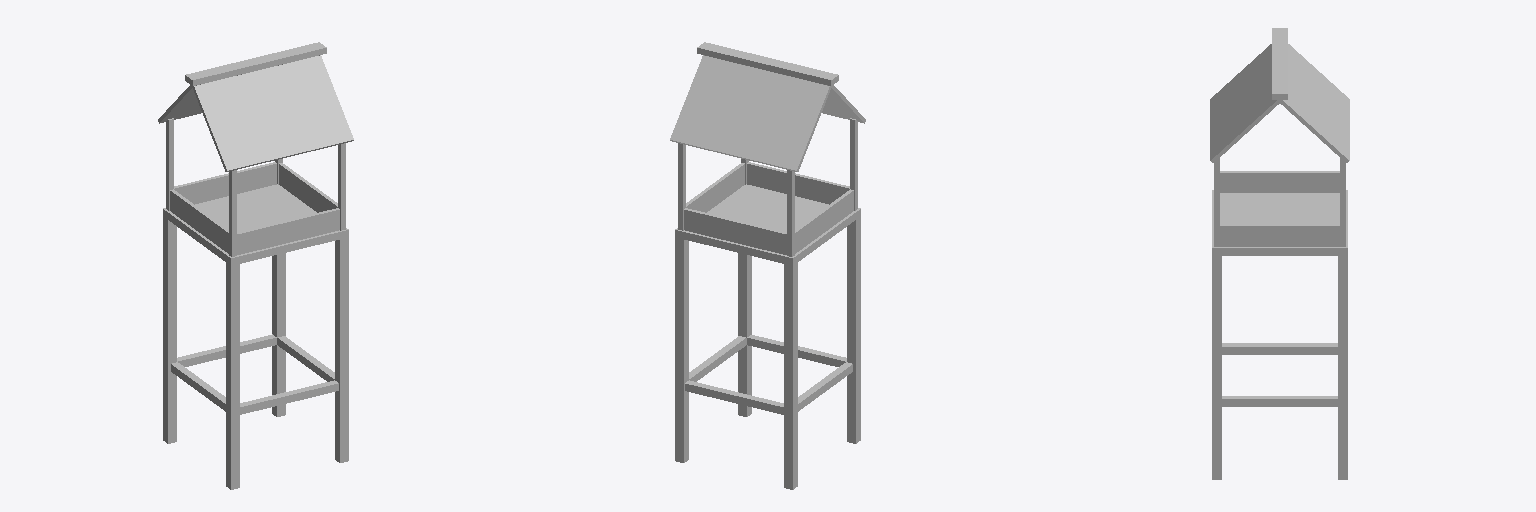
Rendered from woodenTowerWatch.obj.
The picture shows the model from 3 angles: view 1: azimuth 30°, elevation 25°; view 2: azimuth 150°, elevation 25°; view 3: azimuth 270°, elevation 25°; orthographic projection.
Visible parts, largest first — view 1: Cube.017_Cube.012, Cube.013_Cube.010, Cube.002, Cube.001, Cube.003, Cube.016_Cube.009, Cube.015_Cube.009, Cube, Cube.019_Cube.014, Cube.014_Cube.011, Cube.012_Cube.009, Cube.007_Cube.006 (+7 smaller); view 2: Cube.018_Cube.012, Cube.013_Cube.010, Cube.003, Cube, Cube.002, Cube.015_Cube.009, Cube.016_Cube.009, Cube.001, Cube.019_Cube.014, Cube.014_Cube.011, Cube.012_Cube.009, Cube.006_Cube.005 (+7 smaller); view 3: Cube.013_Cube.010, Cube.017_Cube.012, Cube.018_Cube.012, Cube.012_Cube.009, Cube.014_Cube.011, Cube, Cube.001, Cube.004, Cube.005_Cube.004, Cube.019_Cube.014.
Part boxes in pixels (bbox=[...]): Cube.017_Cube.012: bbox=[193, 55, 353, 171]; Cube.013_Cube.010: bbox=[163, 184, 348, 265]; Cube.002: bbox=[226, 263, 239, 489]; Cube.001: bbox=[335, 237, 348, 462]; Cube.003: bbox=[163, 217, 176, 443]; Cube.016_Cube.009: bbox=[237, 208, 339, 254]; Cube.015_Cube.009: bbox=[174, 162, 276, 204]; Cube: bbox=[272, 253, 285, 416]; Cube.019_Cube.014: bbox=[185, 42, 326, 85]; Cube.014_Cube.011: bbox=[170, 189, 228, 253]; Cube.012_Cube.009: bbox=[279, 163, 337, 212]; Cube.007_Cube.006: bbox=[240, 380, 338, 414]; Cube.018_Cube.012: bbox=[670, 55, 830, 171]; Cube.013_Cube.010: bbox=[675, 184, 860, 265]; Cube.003: bbox=[784, 263, 797, 489]; Cube: bbox=[675, 237, 688, 462]; Cube.002: bbox=[847, 217, 860, 443]; Cube.015_Cube.009: bbox=[684, 208, 786, 254]; Cube.016_Cube.009: bbox=[747, 162, 849, 204]; Cube.001: bbox=[738, 253, 751, 416]; Cube.019_Cube.014: bbox=[697, 42, 838, 85]; Cube.014_Cube.011: bbox=[795, 189, 853, 253]; Cube.012_Cube.009: bbox=[686, 163, 744, 212]; Cube.006_Cube.005: bbox=[685, 380, 783, 414]; Cube.013_Cube.010: bbox=[1212, 190, 1347, 255]; Cube.017_Cube.012: bbox=[1210, 44, 1282, 162]; Cube.018_Cube.012: bbox=[1278, 44, 1349, 162]; Cube.012_Cube.009: bbox=[1220, 224, 1339, 246]; Cube.014_Cube.011: bbox=[1220, 171, 1339, 192]; Cube: bbox=[1338, 256, 1347, 479]; Cube.001: bbox=[1212, 256, 1221, 479]; Cube.004: bbox=[1222, 343, 1337, 354]; Cube.005_Cube.004: bbox=[1222, 396, 1337, 406]; Cube.019_Cube.014: bbox=[1272, 28, 1287, 99].
Size of the model in its own units: 3.7 by 10.26 by 3.32.